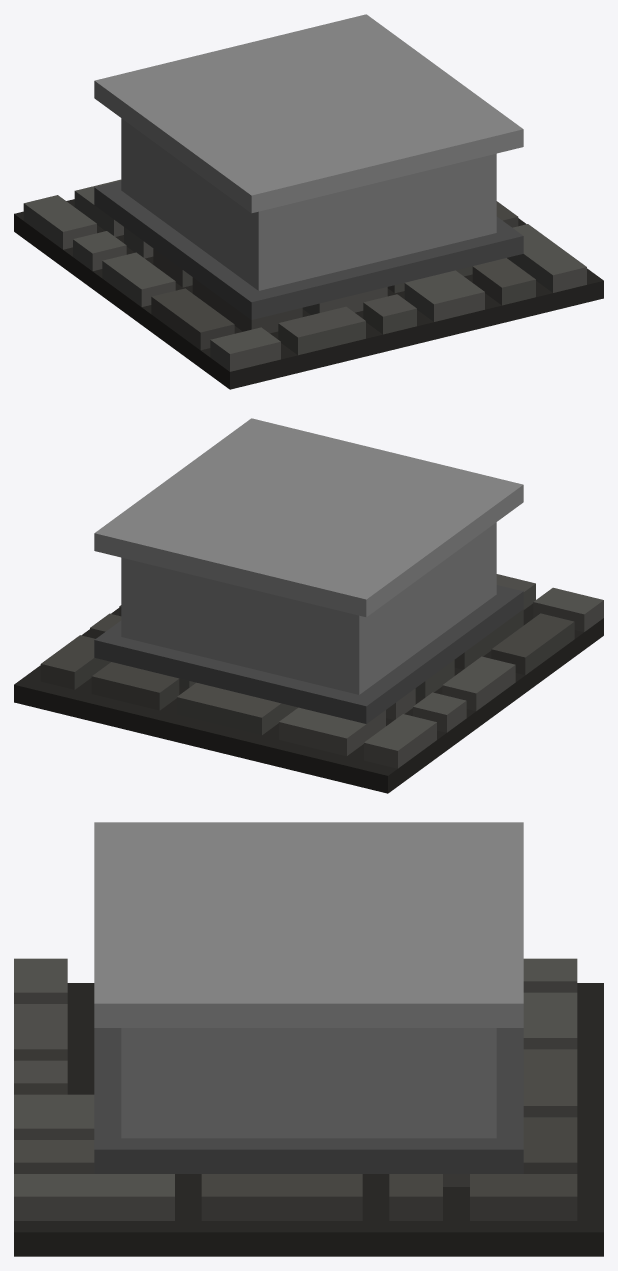
Rendered from tile_sewers_PEDESTAL.glb.
The picture shows the model from 3 angles, top to bottom: view 1: azimuth 30°, elevation 25°; view 2: azimuth 150°, elevation 25°; view 3: azimuth 270°, elevation 25°; orthographic projection. The views are drawn at different scales.
Visible parts, largest first — view 1: tile_sewers_PEDESTAL_v3; view 2: tile_sewers_PEDESTAL_v3; view 3: tile_sewers_PEDESTAL_v3.
Boxes of the visible parts, x1,y1,x2,y2 form: tile_sewers_PEDESTAL_v3: (14, 14, 603, 389); tile_sewers_PEDESTAL_v3: (14, 418, 603, 793); tile_sewers_PEDESTAL_v3: (14, 822, 603, 1256).
Size of the model in its own units: 1 by 0.4091 by 1.
1 material, 1 textured.
